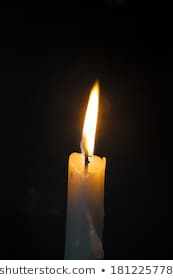Fire: (83, 78, 99, 160)
